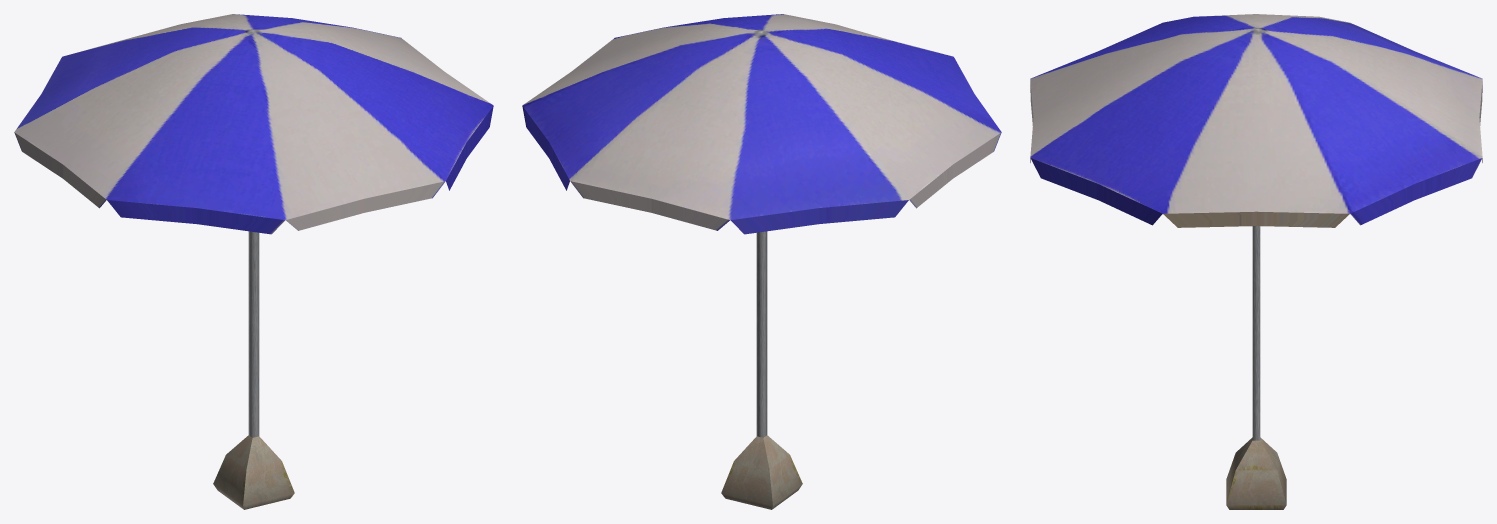
File: UDC_UmbrellaBlue.obj
3 renders of one model, left to right at view 1: azimuth 30°, elevation 25°; view 2: azimuth 150°, elevation 25°; view 3: azimuth 270°, elevation 25°, orthographic.
Visible parts, largest first — view 1: UDC_UmbrellaBlue; view 2: UDC_UmbrellaBlue; view 3: UDC_UmbrellaBlue.
Part boxes in pixels (left/top/right/bottom): UDC_UmbrellaBlue: left=14, top=14, right=493, bottom=509; UDC_UmbrellaBlue: left=522, top=14, right=1001, bottom=509; UDC_UmbrellaBlue: left=1030, top=14, right=1482, bottom=509.
Bounding box in the file's own units: 0.9037 × 1.03 × 0.9037.
Materials: 2 (2 with a texture image).
